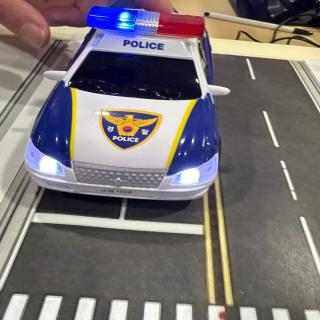Police_car: (25, 7, 229, 199)
